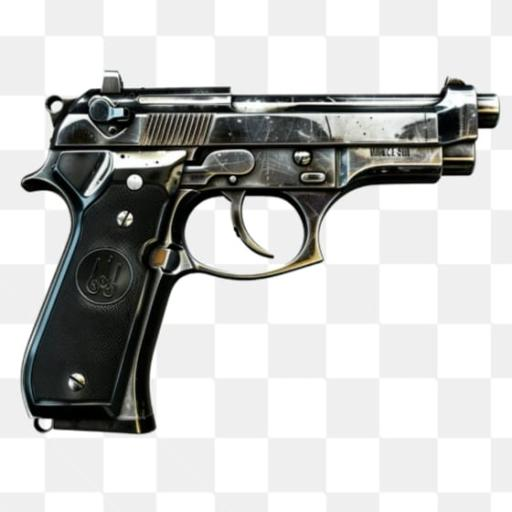Gun: (22, 71, 498, 432), (23, 71, 498, 431)
